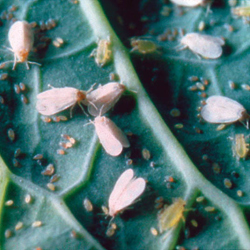whitefly: (100, 170, 147, 227), (82, 104, 131, 157), (34, 84, 98, 117), (1, 20, 41, 69), (85, 79, 137, 116), (200, 96, 249, 131), (178, 29, 224, 62)
